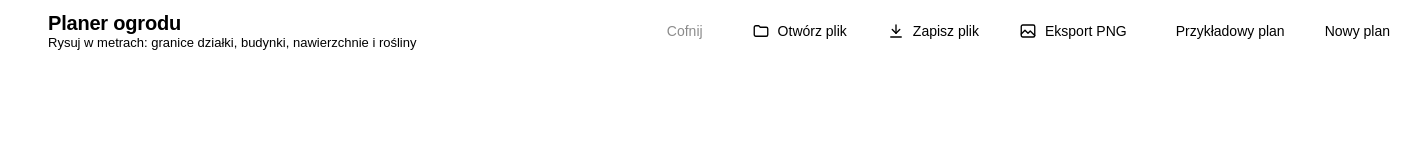
Header › saves a JSON file and offers a download link
Step 1. Click the button "Zapisz plik" → [933, 31], box [871,22,995,40]
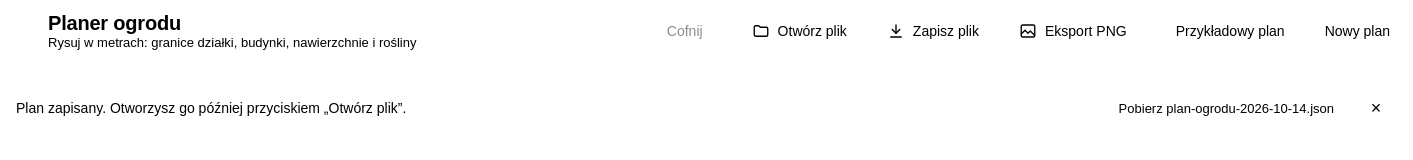
Result: the message shows "Plan zapisany. Otworzysz go później przyciskiem „Otwórz plik”." at [16,100,406,116]
Step 2. Click the button named "Zamknij komunikat" → [1376, 108], box [1356,88,1396,128]
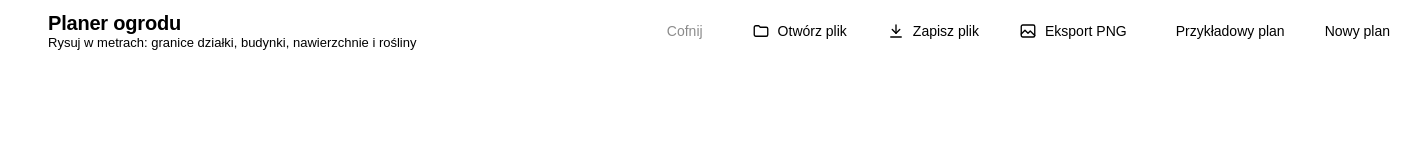
Result: the message is gone
